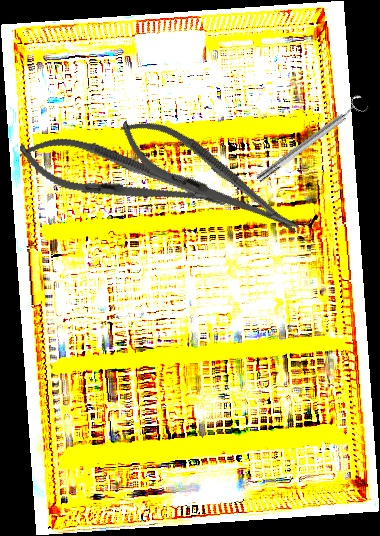Fixation Ring: (251, 93, 371, 187)
Needle Holder: (109, 104, 310, 252), (12, 125, 233, 229)
